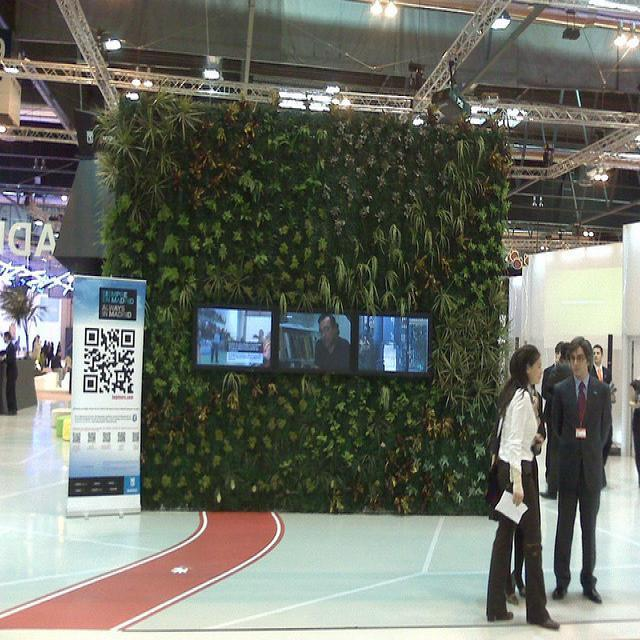qr_code: (83, 328, 134, 392)
